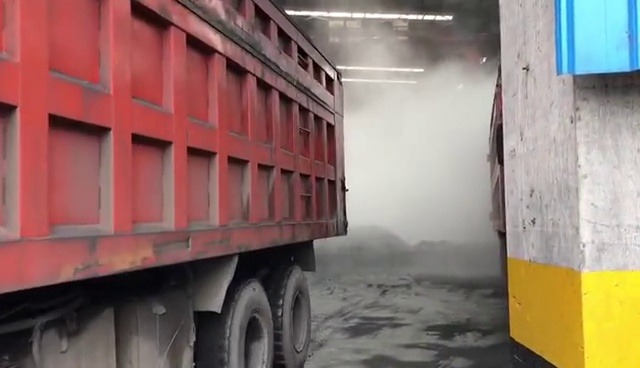dust: (324, 18, 496, 263)
truck: (0, 0, 354, 368)
